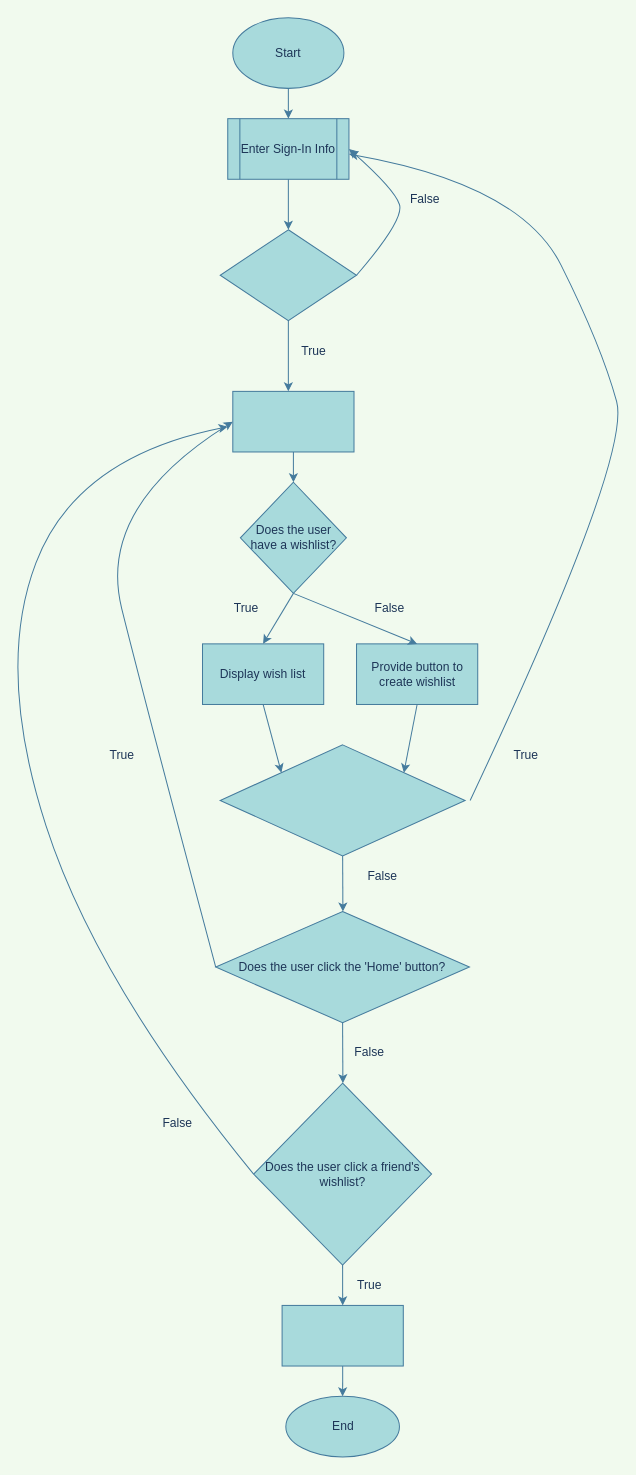
This 636x1475 diagram has some shape labels left out. The box of each missing label's shape, as (x1, y1, x2, y2) in pixels:
Display friend's wish list: (281, 1304, 403, 1366)
Display Log Out Button, Home Button, and Friends List: (232, 390, 354, 452)
Does the user click the 'Log Out' button?: (219, 744, 465, 856)
Does the user information authenticate?: (219, 229, 357, 321)
